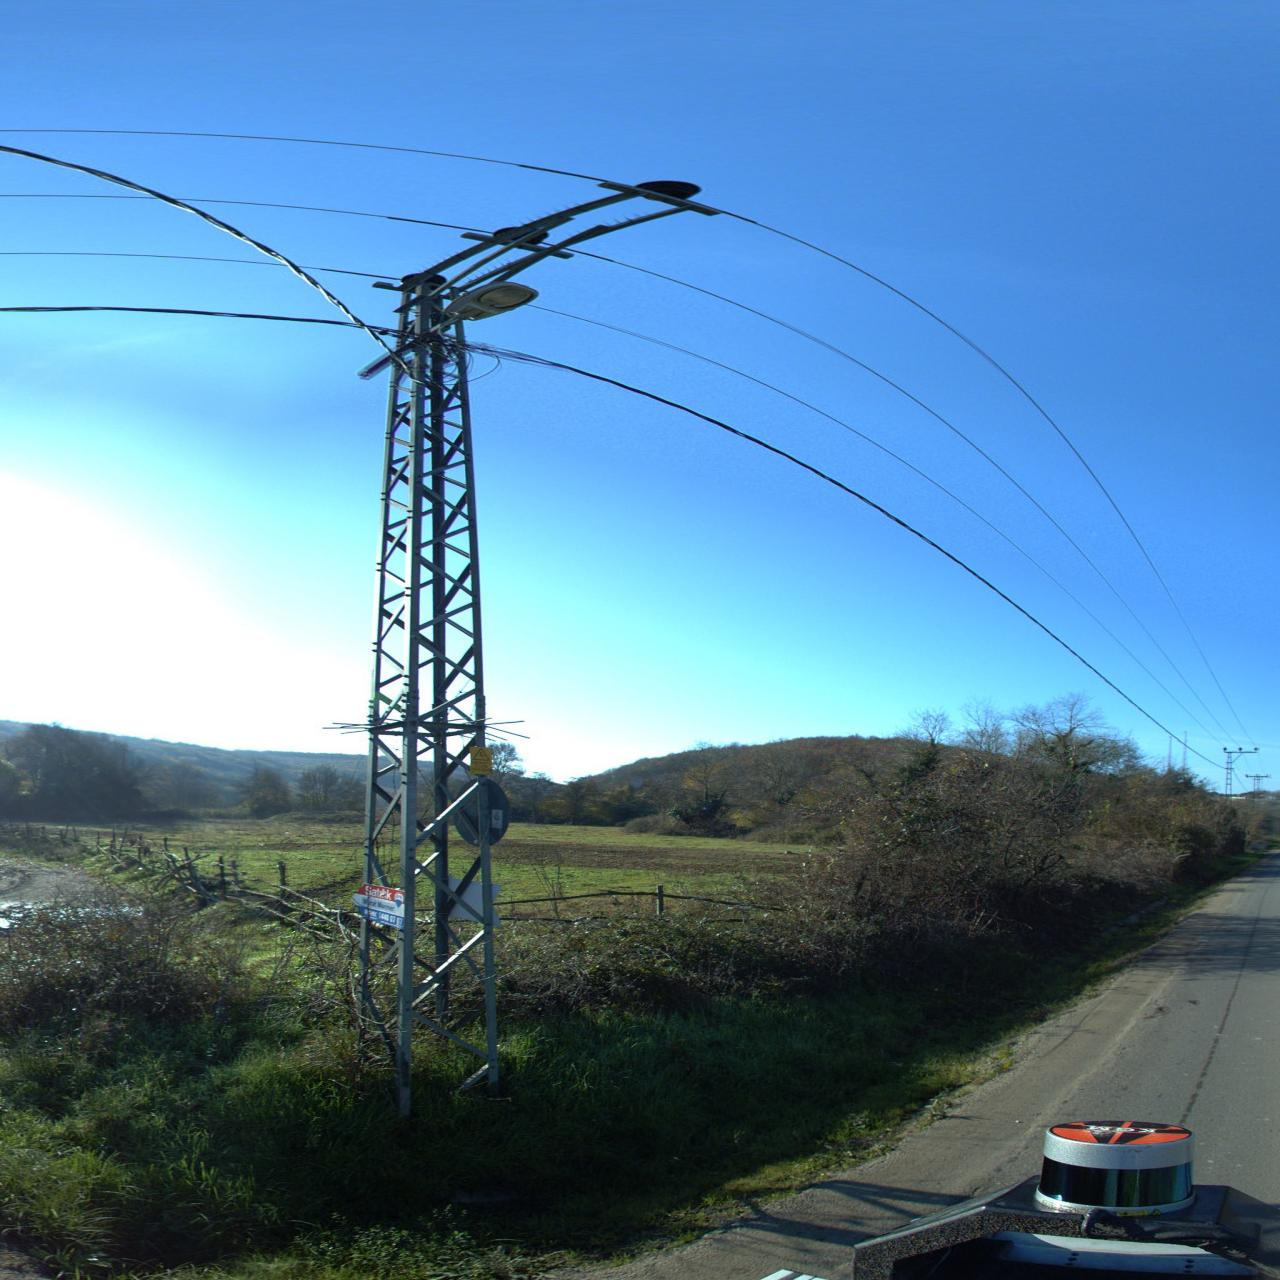Utility Pole Information Plate: (468, 745, 495, 776)
